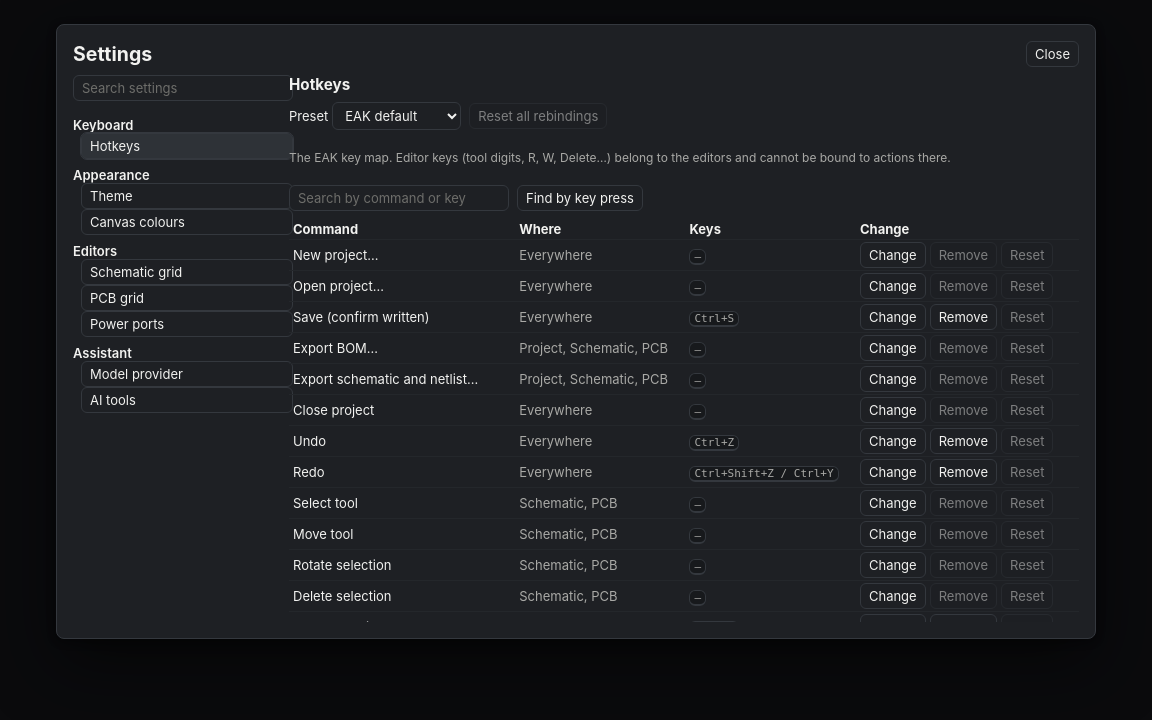
Scenario: settings dialog › rebinds by key press, refuses a conflict with the reason, and searches by key and by command
Later steps or results of the test are not shown.
Click the button with aria-label "Change keys of Undo" at (893, 441), box left=860, top=428, right=926, bottom=454
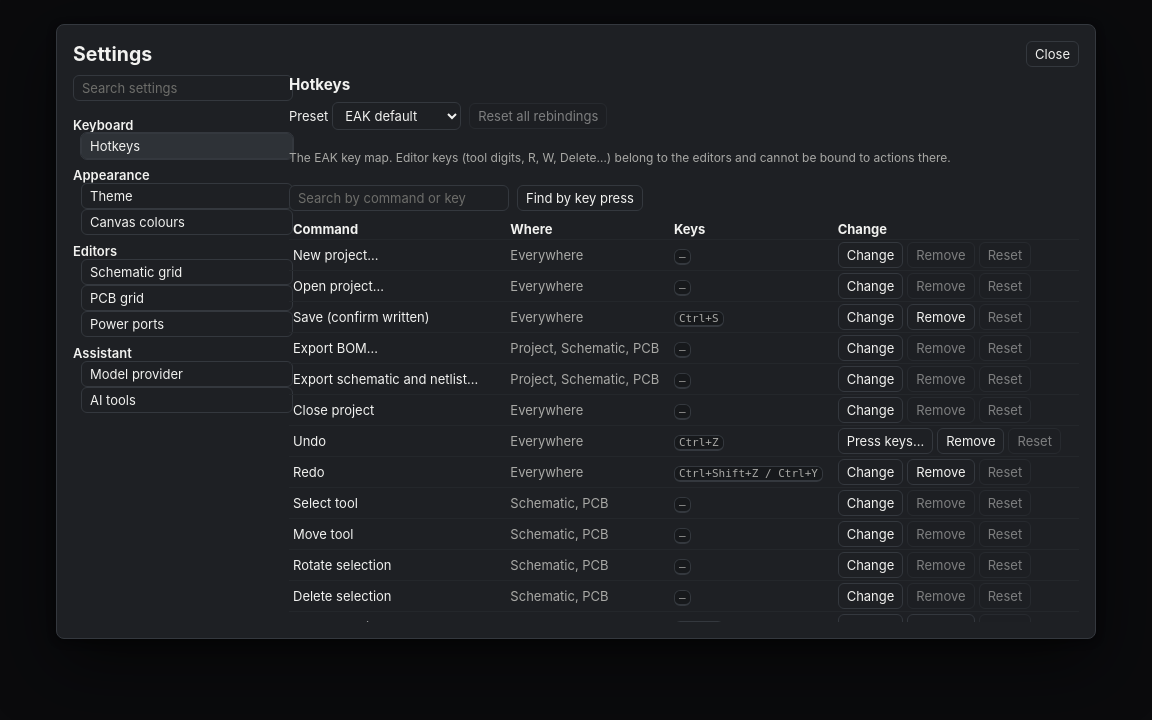
Press s
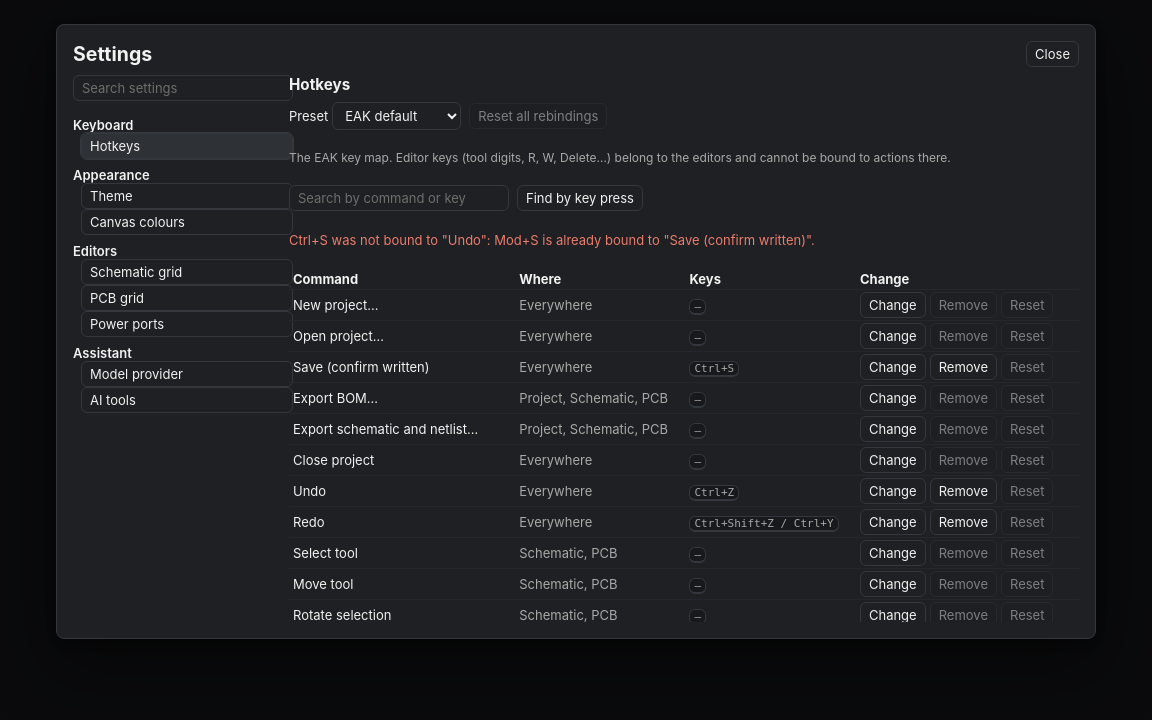
Expected: the message shows "was not bound to \"Undo\": Mod+S is already bound to \"Save", left=289, top=232, right=815, bottom=248
Click the button with aria-label "Change keys of Undo" at (893, 491), box left=860, top=478, right=926, bottom=504
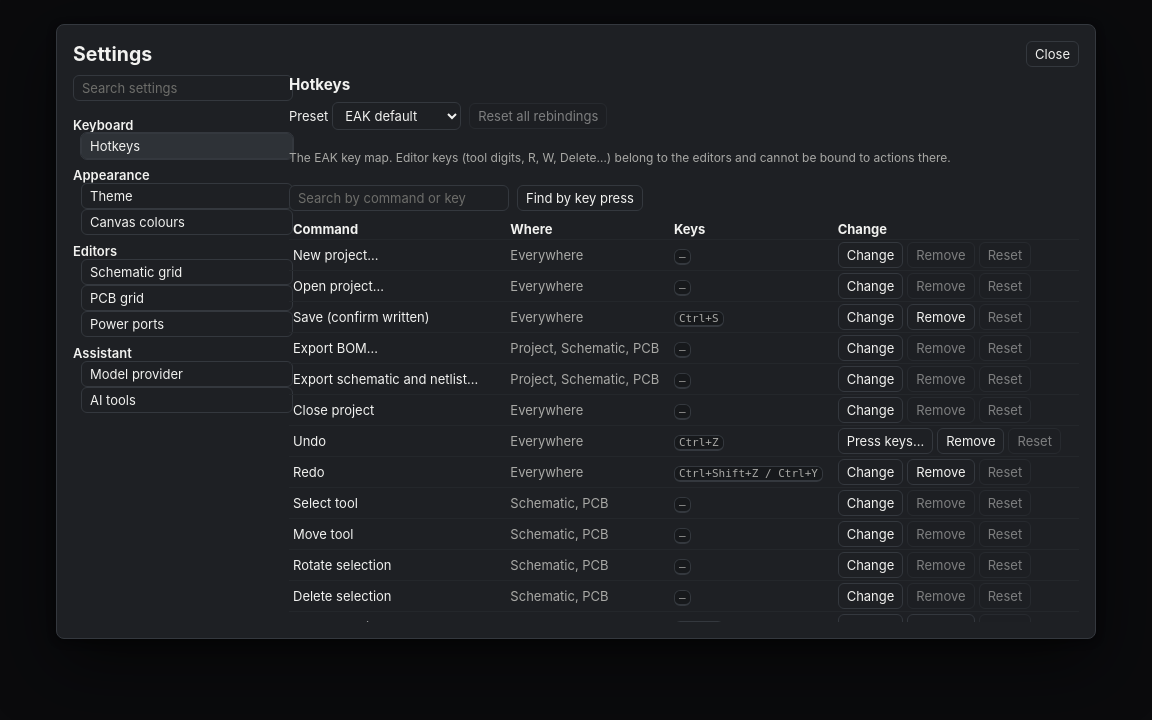
Press u
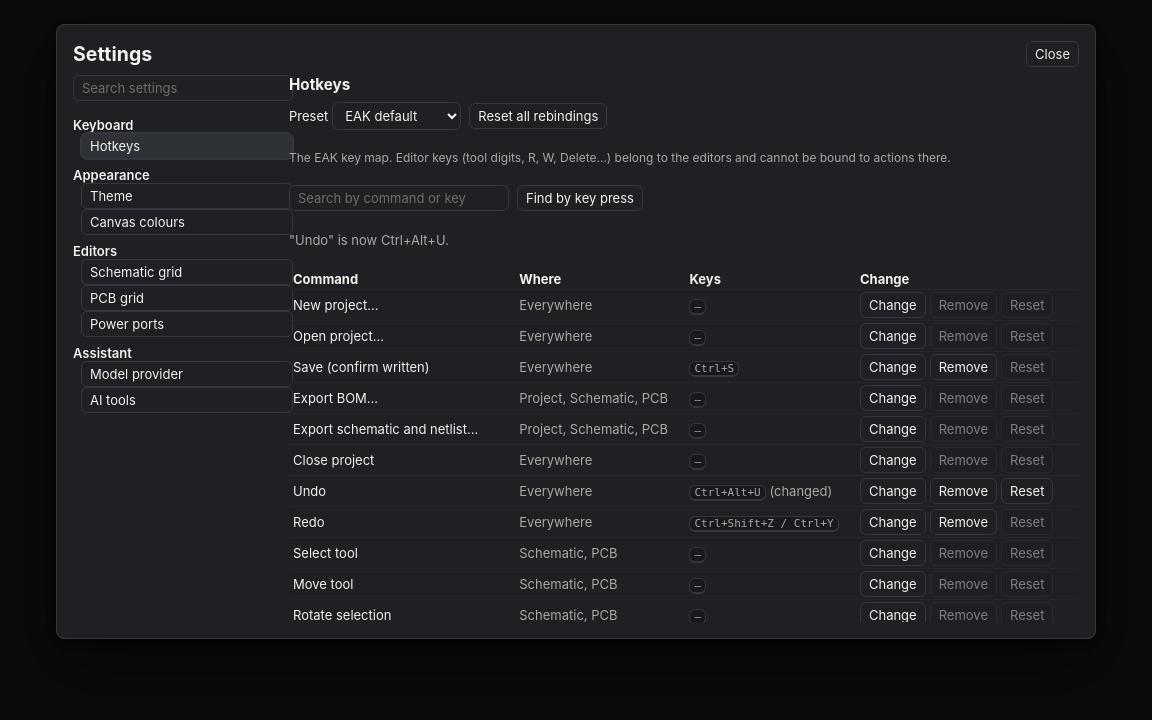
Expected: the message shows "\"Undo\" is now", left=289, top=232, right=449, bottom=248
